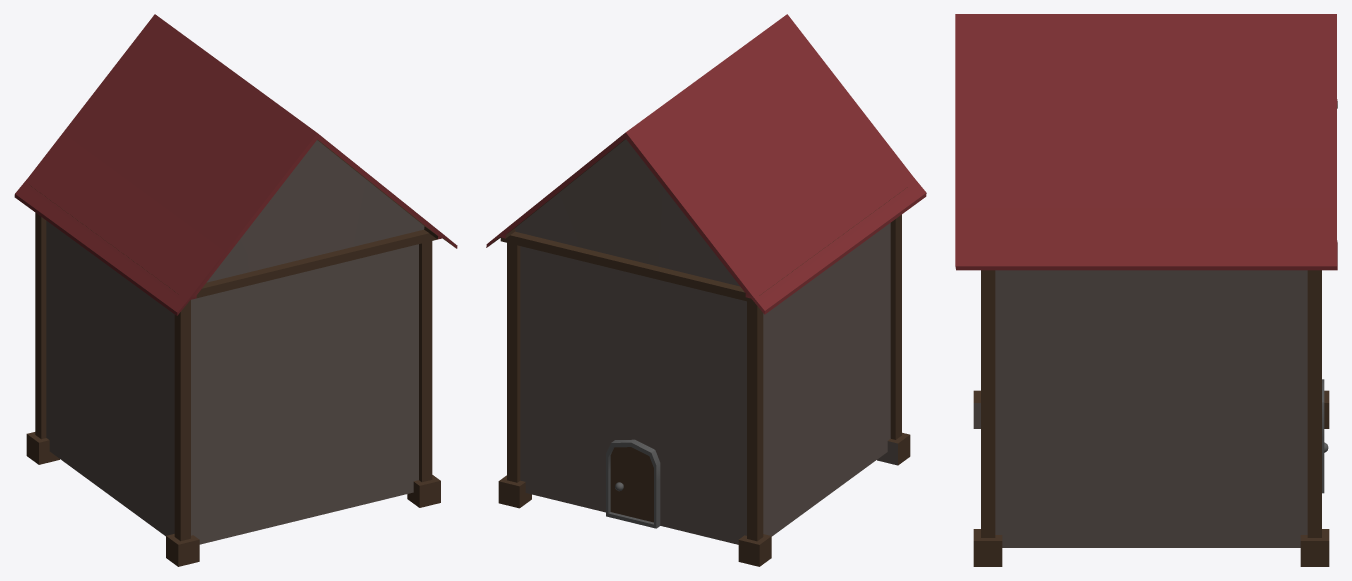
Rendered from House.fbx.
3 renders of one model, left to right at view 1: azimuth 30°, elevation 25°; view 2: azimuth 150°, elevation 25°; view 3: azimuth 270°, elevation 25°, orthographic. The views are drawn at different scales.
Visible parts, largest first — view 1: Icosphere; view 2: Icosphere; view 3: Icosphere.
Boxes of the visible parts, bbox=[...] form: Icosphere: bbox=[14, 14, 457, 566]; Icosphere: bbox=[486, 14, 926, 566]; Icosphere: bbox=[955, 14, 1337, 566].
Size of the model in its own units: 232 by 323 by 234.
